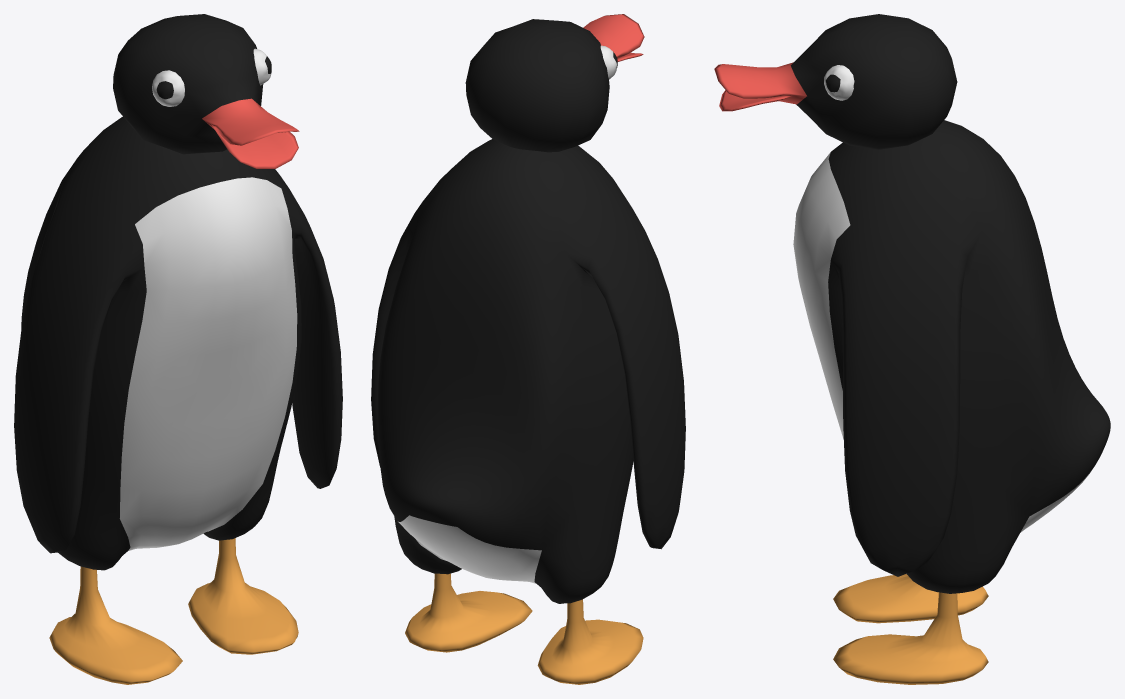
File: pingu.gltf
3 views of the same model, side by side, from view 1: azimuth 30°, elevation 25°; view 2: azimuth 150°, elevation 25°; view 3: azimuth 270°, elevation 25° (orthographic). The views are drawn at different scales.
Visible parts, largest first — view 1: pingu; view 2: pingu; view 3: pingu.
Boxes of the visible parts, left/top/right/bottom form: pingu: left=14, top=14, right=342, bottom=684; pingu: left=371, top=14, right=685, bottom=684; pingu: left=714, top=14, right=1110, bottom=684.
Size of the model in its own units: 0.3289 by 0.683 by 0.3987.
